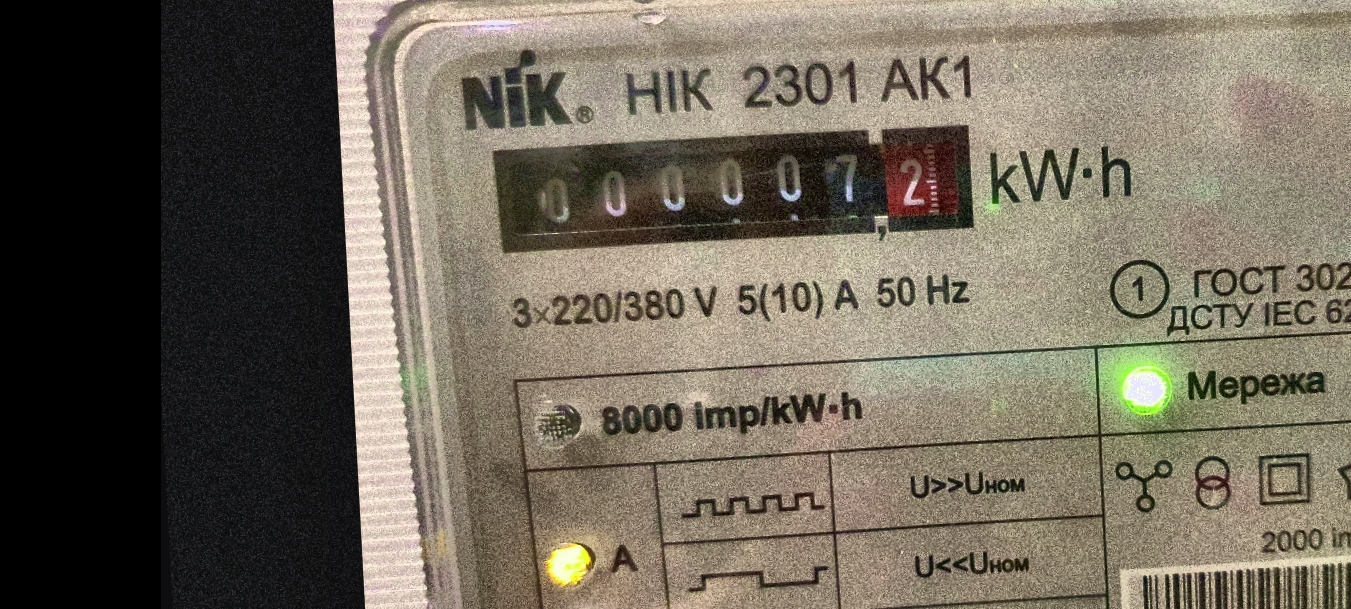0: (597, 165, 634, 219), (657, 159, 691, 213), (773, 151, 807, 205), (715, 153, 748, 208), (541, 173, 575, 225)
2: (897, 156, 930, 208)
7: (831, 149, 864, 205)
screen: (476, 104, 996, 273)
